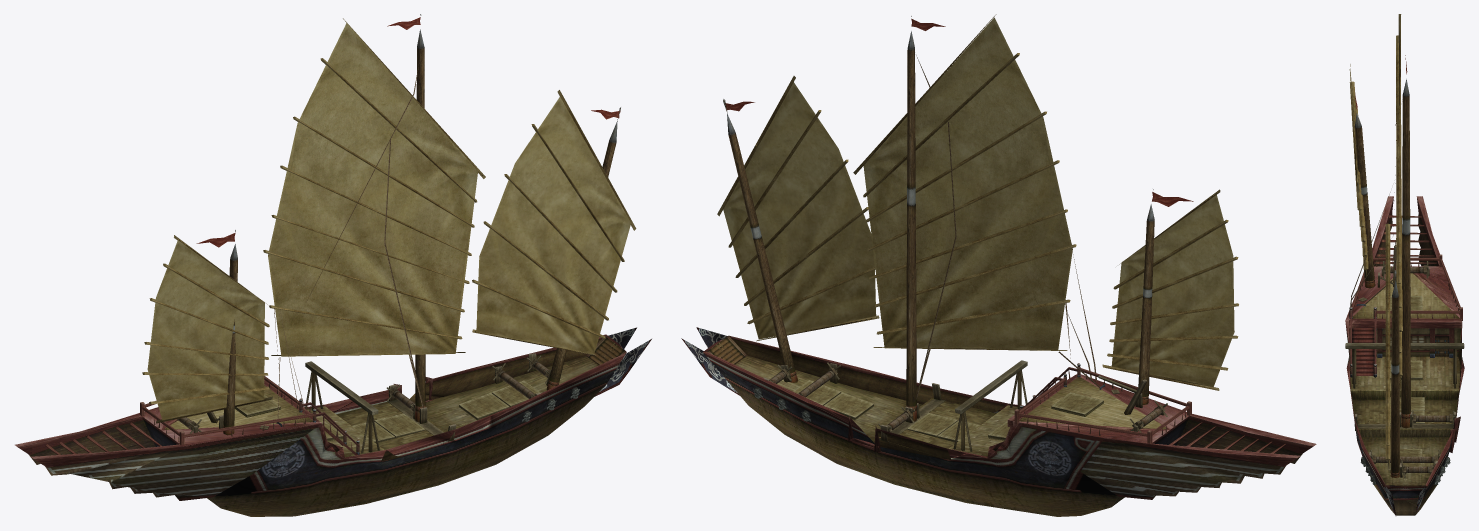
The model's file is fortms_ship01_lod_01.fbx.
3 views of the same model, side by side, from view 1: azimuth 30°, elevation 25°; view 2: azimuth 150°, elevation 25°; view 3: azimuth 270°, elevation 25° (orthographic). The views are drawn at different scales.
Parts seen in each view (by area): view 1: objobjBox50, Object01, objObject01, Object02; view 2: objobjBox50, Object01, objObject01, Object02; view 3: Object01, objobjBox50, objObject01, Object02.
Part boxes in pixels (<box>): objobjBox50: <box>142,14,636,435</box>; Object01: <box>15,327,651,516</box>; objObject01: <box>45,376,539,458</box>; Object02: <box>177,353,579,454</box>; objobjBox50: <box>717,14,1238,421</box>; Object01: <box>681,327,1316,516</box>; objObject01: <box>793,367,1285,459</box>; Object02: <box>753,360,1167,451</box>; Object01: <box>1345,196,1464,515</box>; objobjBox50: <box>1349,14,1410,477</box>; objObject01: <box>1350,215,1462,472</box>; Object02: <box>1345,245,1464,484</box>.
Size of the model in its own units: 82.93 by 61.95 by 15.54.
